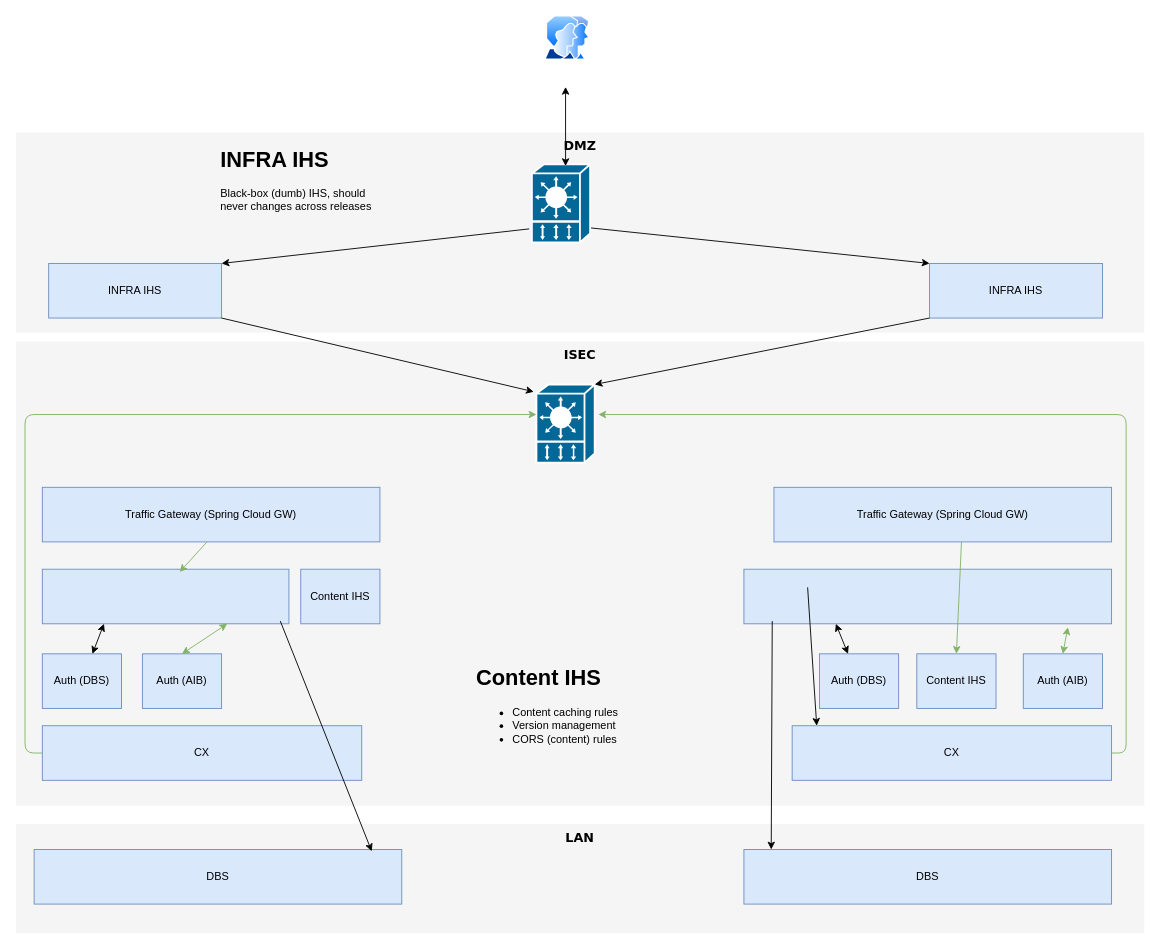
Some shapes in this 1159 by 948 pixel diagram are drawn without their labels. Here are the shapes that lost their labels. From the top down, the centre of each, then its label:
(x=567, y=37): External Users
(x=561, y=203): IHS F5 VIP
(x=565, y=423): DBB VIP
(x=165, y=596): Edge, Registry alphagateway.aib.pri
(x=927, y=596): Edge, Registry omegagateway.aib.pri
